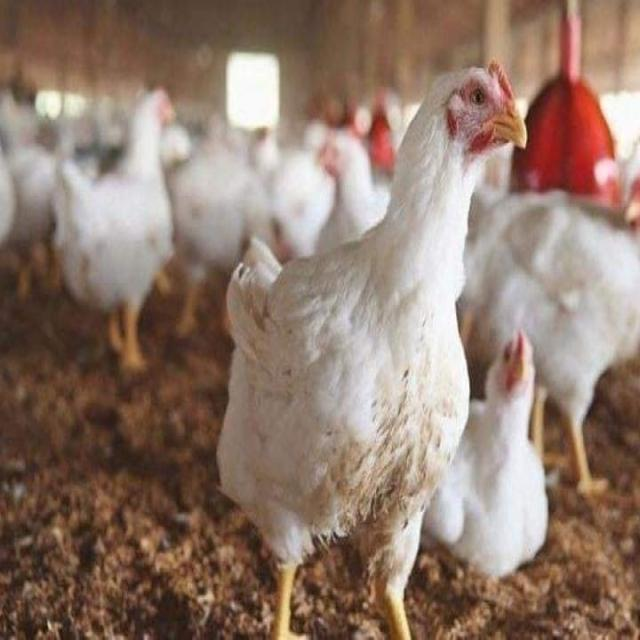Healthy: (195, 49, 530, 631)
